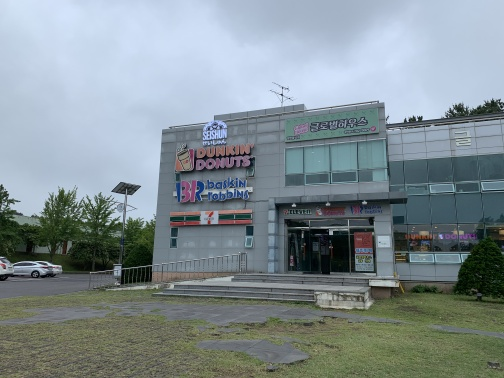Global House: (136, 86, 500, 310)
